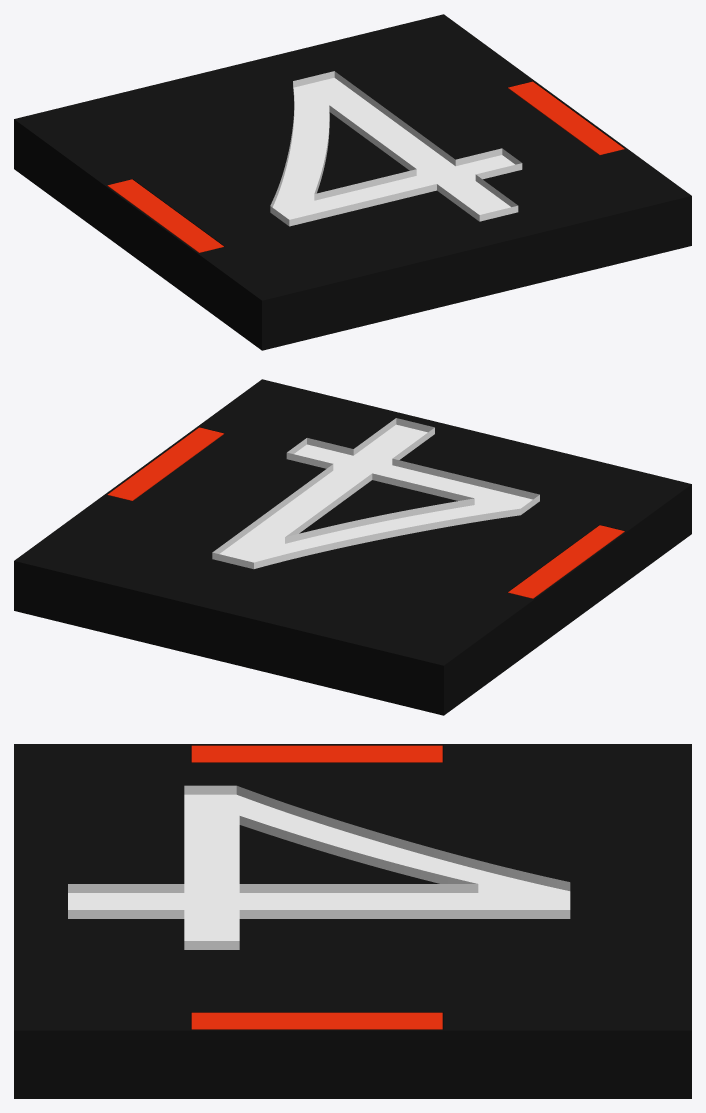
The model's file is armor_red4_body_plate_lights.obj.
3 views of the same model, one above another, from view 1: azimuth 30°, elevation 25°; view 2: azimuth 150°, elevation 25°; view 3: azimuth 270°, elevation 25° (orthographic). The views are drawn at different scales.
Visible parts, largest first — view 1: SIMPLE_ARMOR_PLATE_FRONT_WITH_LIGHT_CUTOUTS, SIMPLE_ARMOR_PLATE_REAR_COVER, MERGED_WHITE_DIGIT, RECTANGULAR_RED_LIGHT_BARS; view 2: SIMPLE_ARMOR_PLATE_FRONT_WITH_LIGHT_CUTOUTS, SIMPLE_ARMOR_PLATE_REAR_COVER, MERGED_WHITE_DIGIT, RECTANGULAR_RED_LIGHT_BARS; view 3: SIMPLE_ARMOR_PLATE_FRONT_WITH_LIGHT_CUTOUTS, MERGED_WHITE_DIGIT, SIMPLE_ARMOR_PLATE_REAR_COVER, RECTANGULAR_RED_LIGHT_BARS.
Part boxes in pixels (<box>): SIMPLE_ARMOR_PLATE_FRONT_WITH_LIGHT_CUTOUTS: <box>14,14,691,320</box>; SIMPLE_ARMOR_PLATE_REAR_COVER: <box>14,139,691,350</box>; MERGED_WHITE_DIGIT: <box>270,71,522,226</box>; RECTANGULAR_RED_LIGHT_BARS: <box>107,81,624,252</box>; SIMPLE_ARMOR_PLATE_FRONT_WITH_LIGHT_CUTOUTS: <box>14,379,691,685</box>; SIMPLE_ARMOR_PLATE_REAR_COVER: <box>14,504,691,715</box>; MERGED_WHITE_DIGIT: <box>212,418,539,569</box>; RECTANGULAR_RED_LIGHT_BARS: <box>107,427,624,598</box>; SIMPLE_ARMOR_PLATE_FRONT_WITH_LIGHT_CUTOUTS: <box>14,744,691,1057</box>; MERGED_WHITE_DIGIT: <box>68,785,570,949</box>; SIMPLE_ARMOR_PLATE_REAR_COVER: <box>14,1058,691,1098</box>; RECTANGULAR_RED_LIGHT_BARS: <box>191,745,442,1029</box>.
Bounding box in the file's own units: 135 × 19 × 135.
